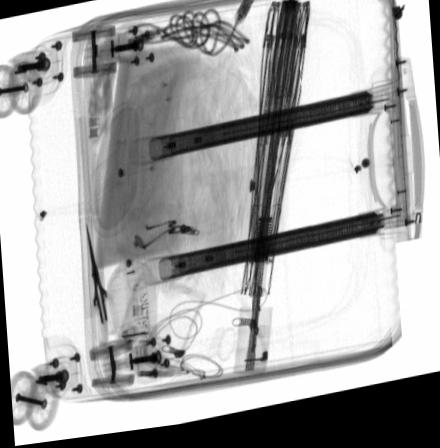Scissors: (86, 223, 119, 349)
